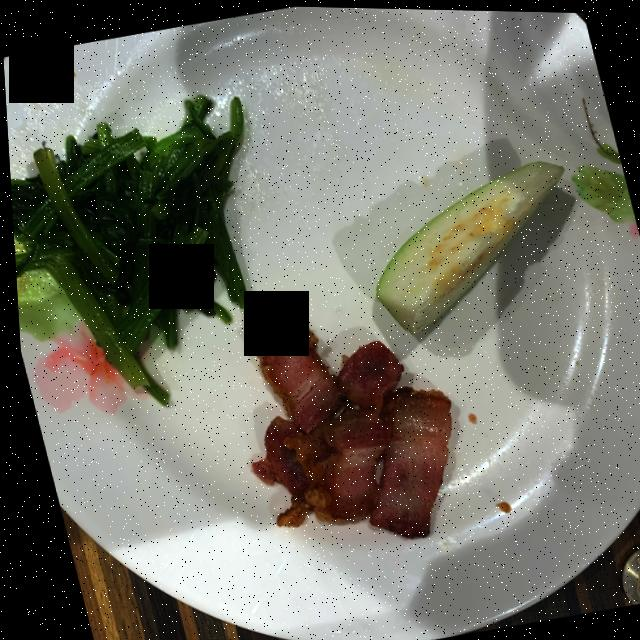coin: (614, 543, 640, 602)
guava -sliced-: (373, 158, 562, 331)
mustard greens: (8, 94, 244, 404)
red grilled pork: (246, 315, 446, 535)
